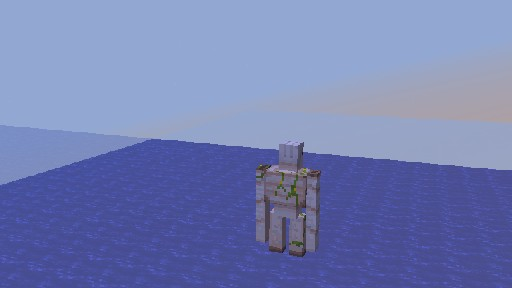iron_golem: (255, 139, 321, 257)
